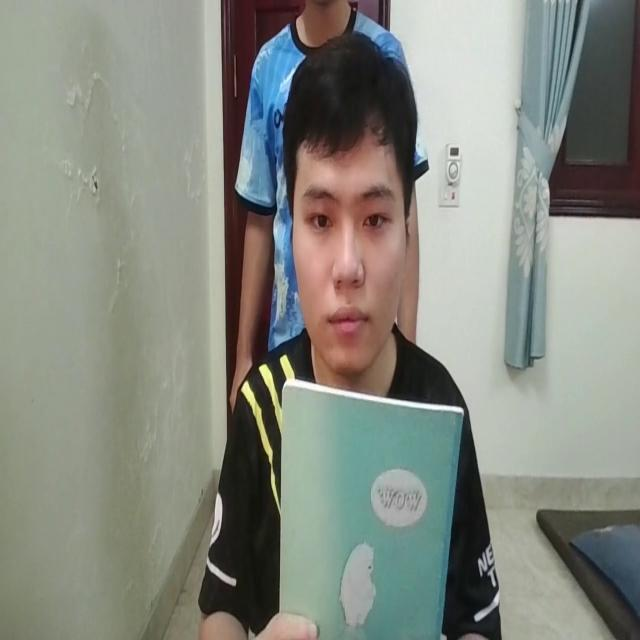book: (279, 372, 463, 640)
student: (201, 30, 503, 640)
